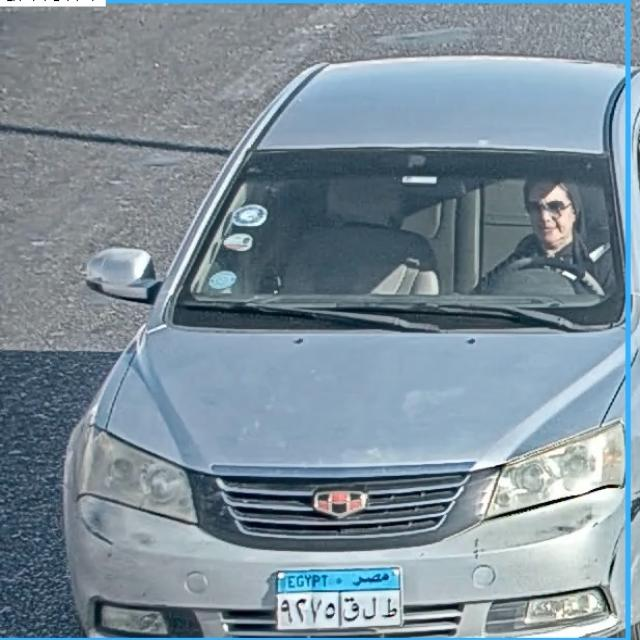windshield: (186, 158, 615, 326)
